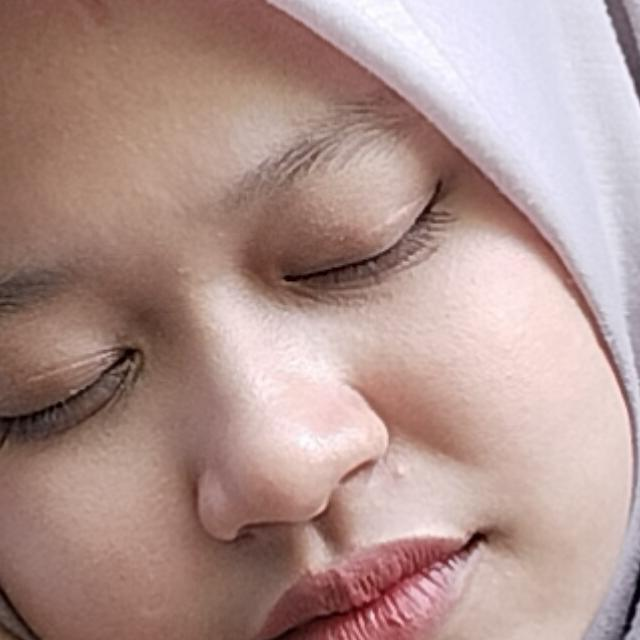tidur: (0, 208, 586, 640)
